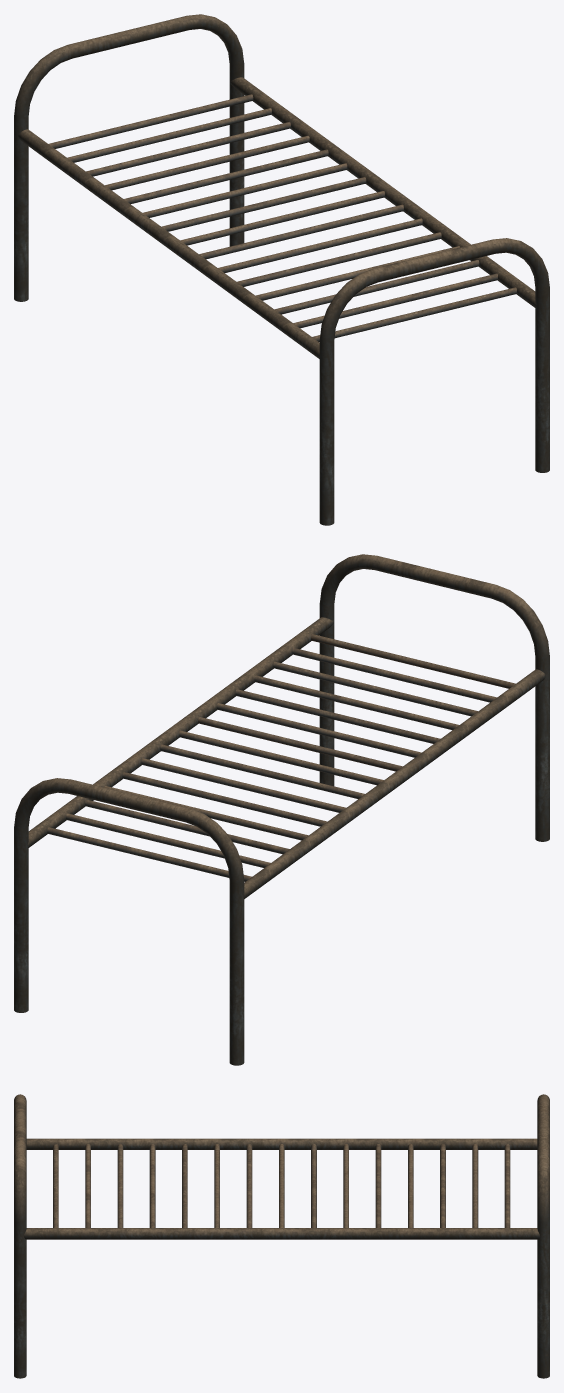
Rendered from bed.fbx.
3 renders of one model, top to bottom at view 1: azimuth 30°, elevation 25°; view 2: azimuth 150°, elevation 25°; view 3: azimuth 270°, elevation 25°, orthographic. The views are drawn at different scales.
Visible parts, largest first — view 1: Bed_frame; view 2: Bed_frame; view 3: Bed_frame.
Boxes of the visible parts, bbox=[...] form: Bed_frame: bbox=[14, 14, 549, 525]; Bed_frame: bbox=[14, 554, 549, 1065]; Bed_frame: bbox=[14, 1094, 549, 1378].
Bounding box in the file's own units: 99.96 × 101 × 237.
